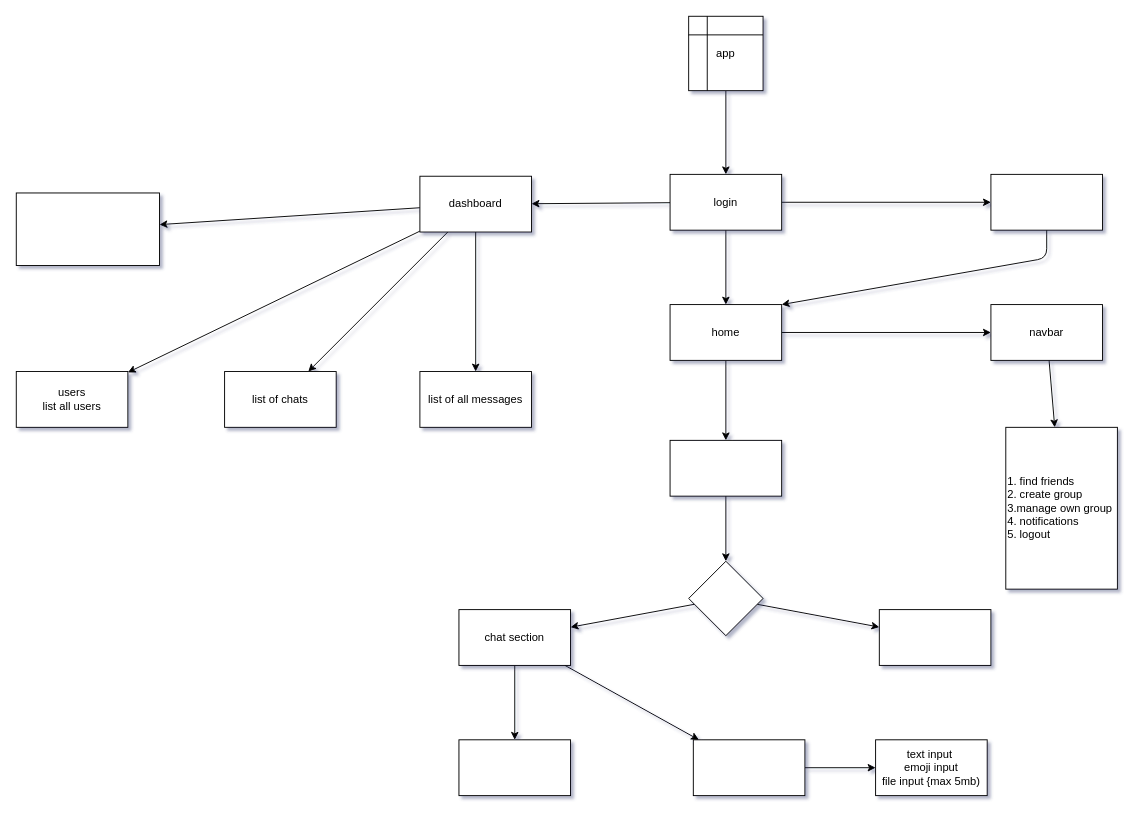
The diagram is 1139 pixels wide and 817 high, and some of its shapes have lost their labels. Each missing label, with the centre of its shape:
"chat room" belongs at (x=725, y=467).
"dashboard number of users number of chats number of messages in db" belongs at (x=87, y=229).
"friends and group lists" belongs at (x=514, y=767).
"input section" belongs at (x=748, y=767).
"signup" belongs at (x=1046, y=201).
"user details" belongs at (x=934, y=637).
